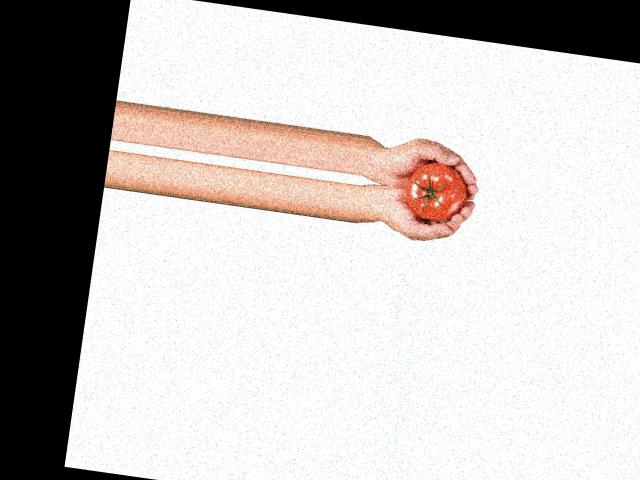tomato: (403, 158, 469, 224)
